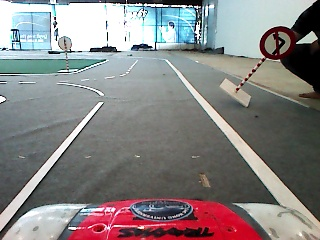ban_left: (260, 27, 295, 60)
